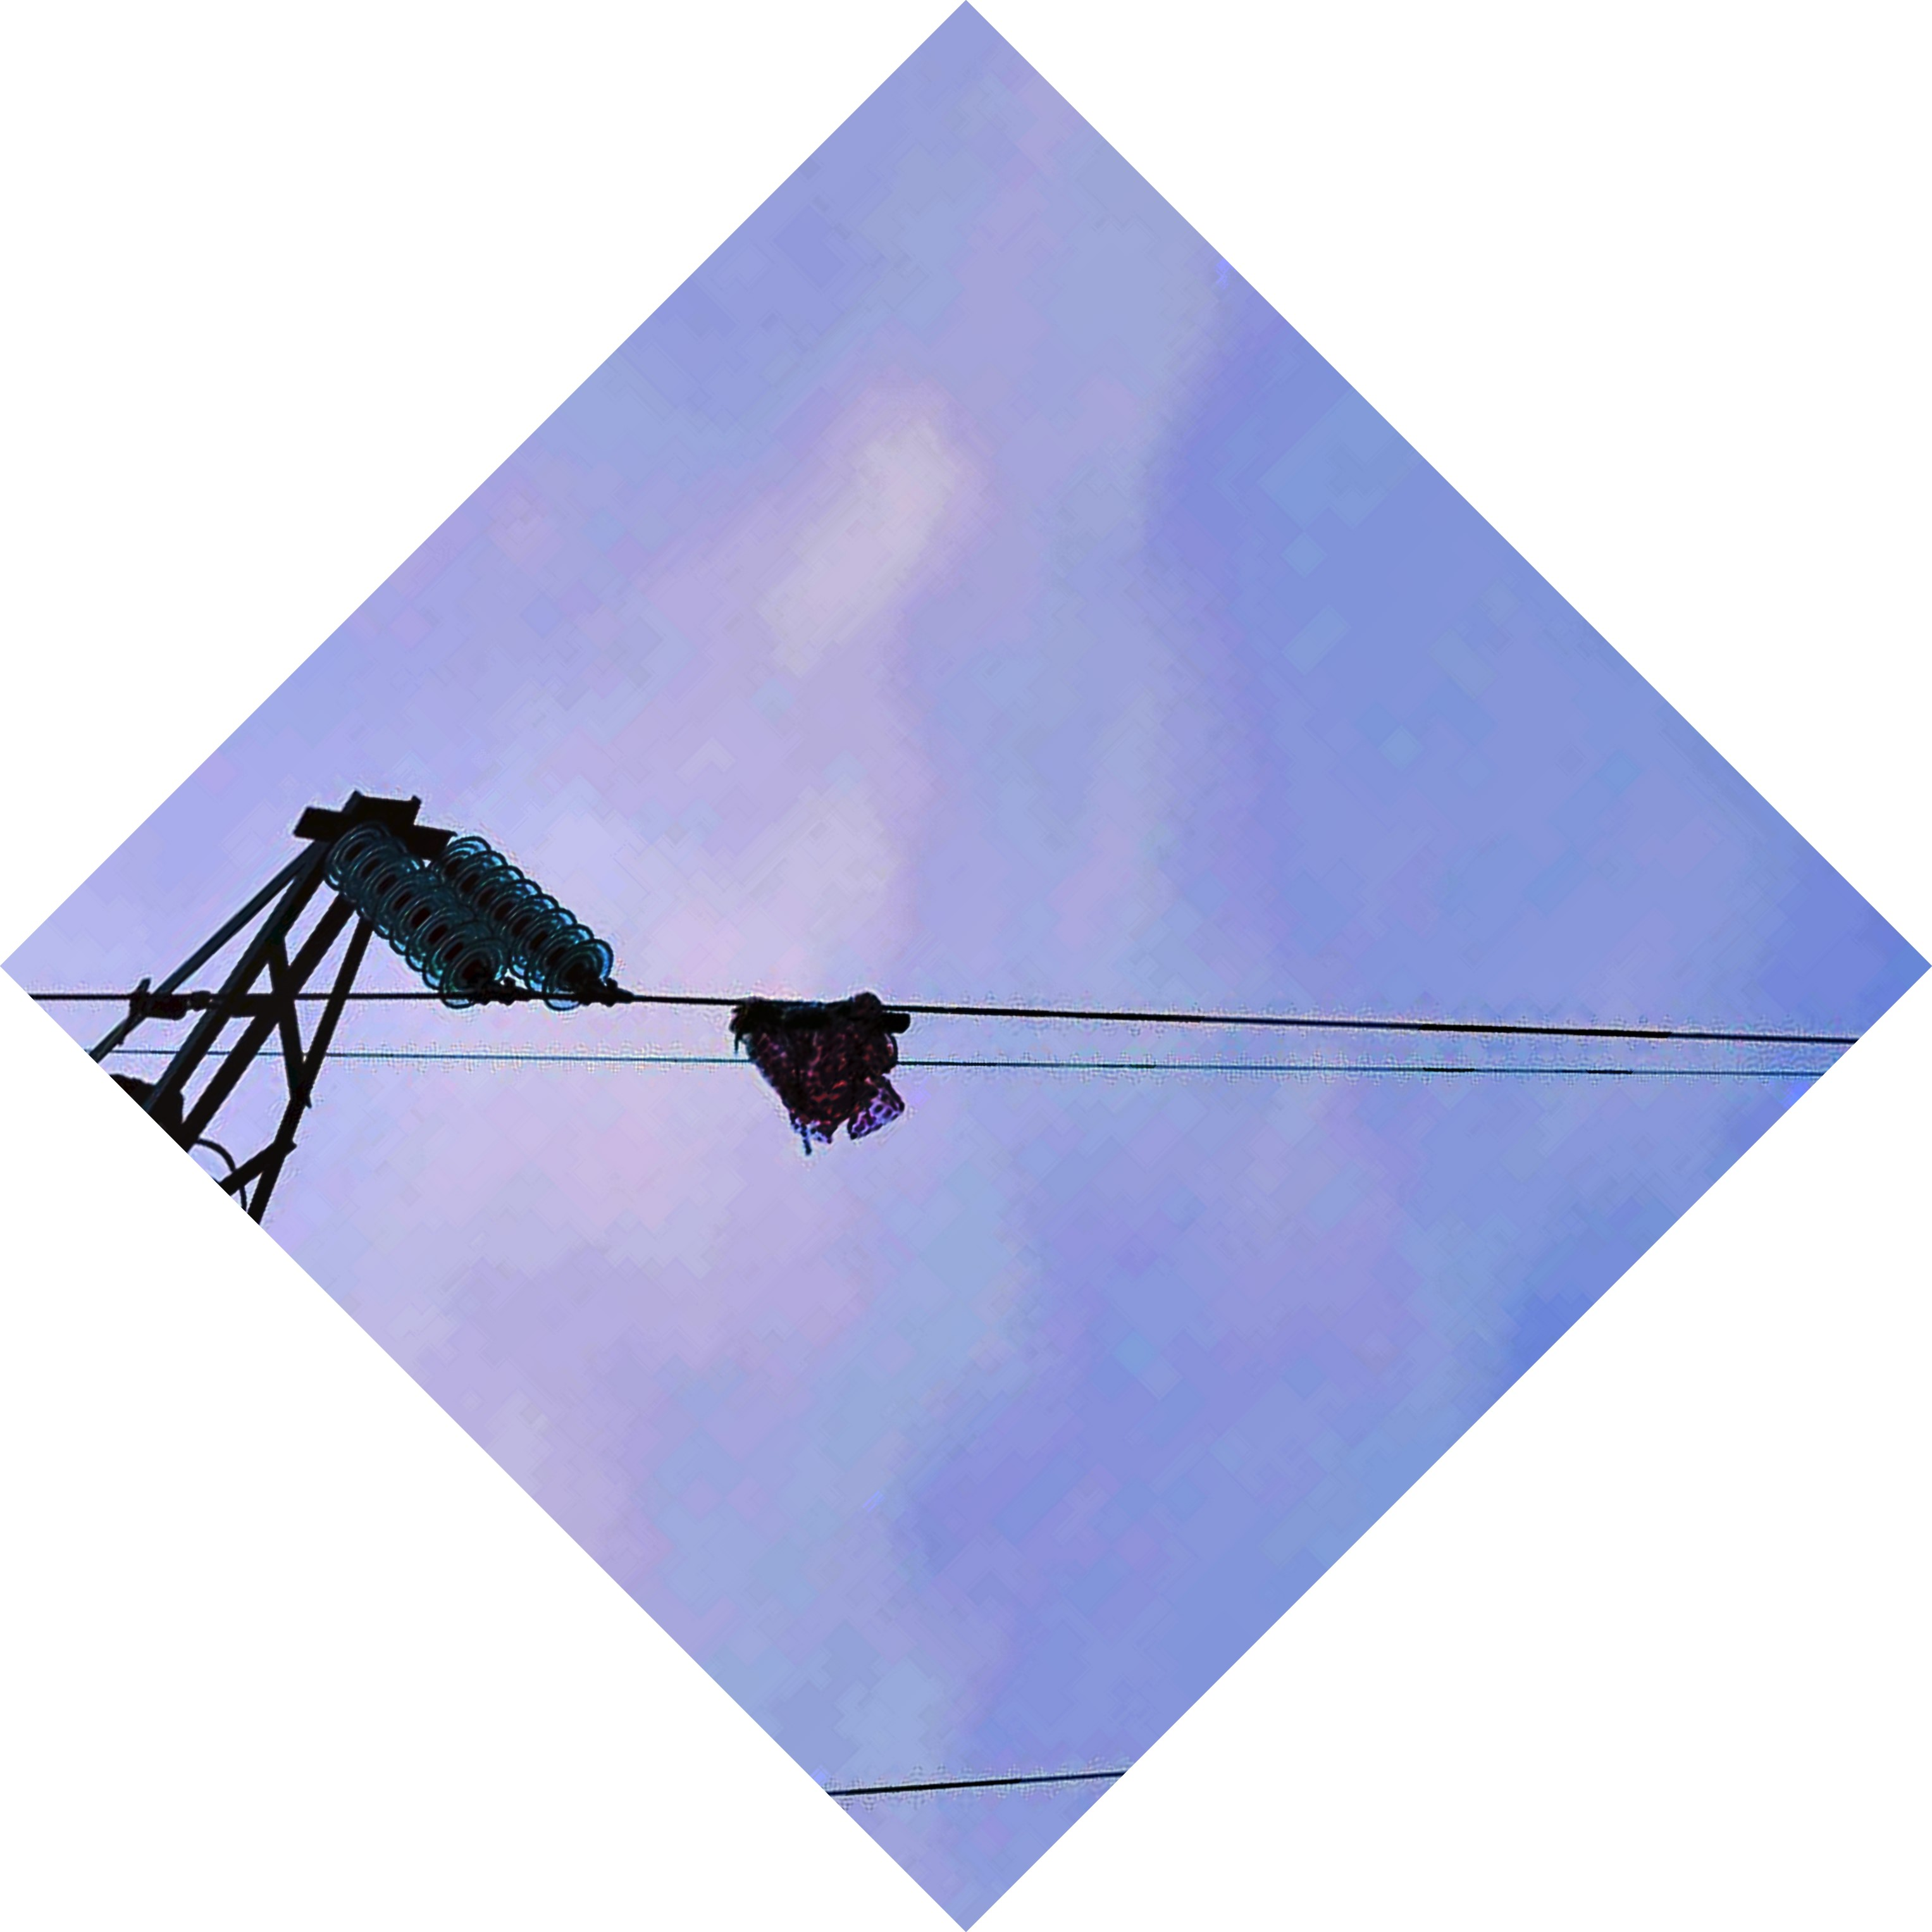wire foreign body: (713, 975, 957, 1164)
